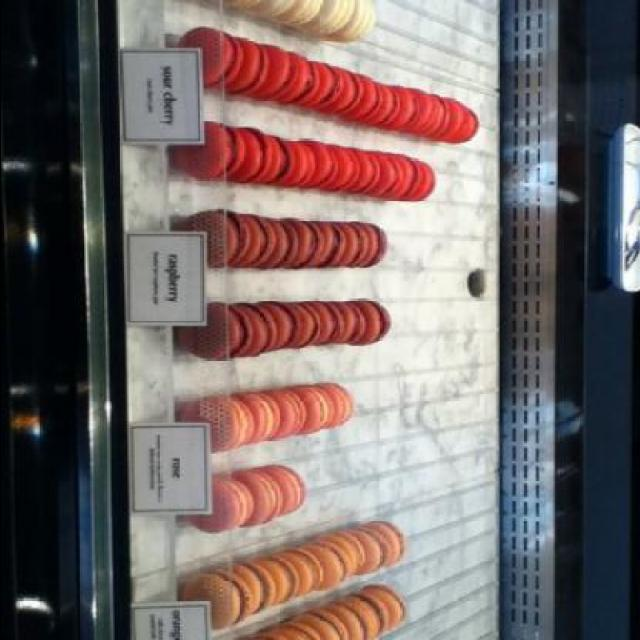Macaron: (164, 2, 482, 640)
